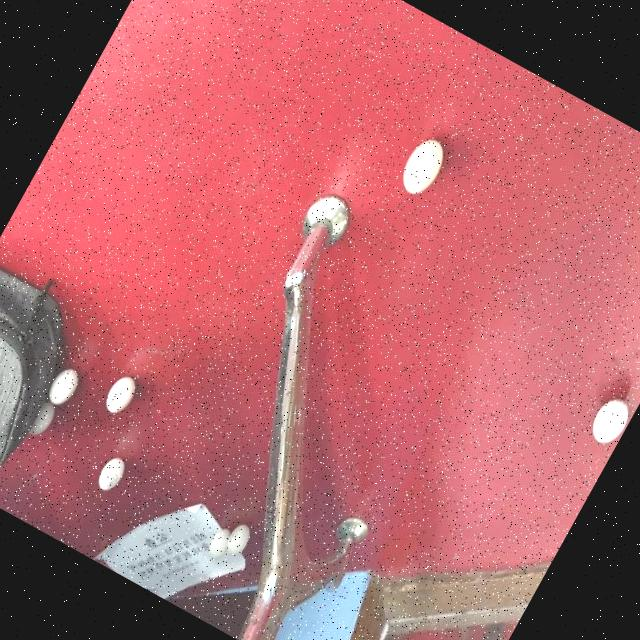ping-pong-ball: (390, 123, 458, 204), (581, 385, 640, 454), (38, 357, 90, 418), (96, 365, 146, 425), (90, 446, 136, 498), (220, 515, 260, 562), (202, 520, 236, 564)
